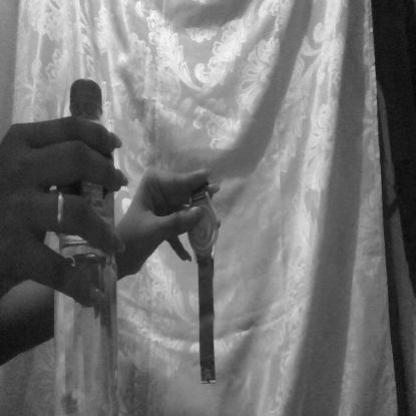Plastic Bottle: (36, 35, 130, 416)
